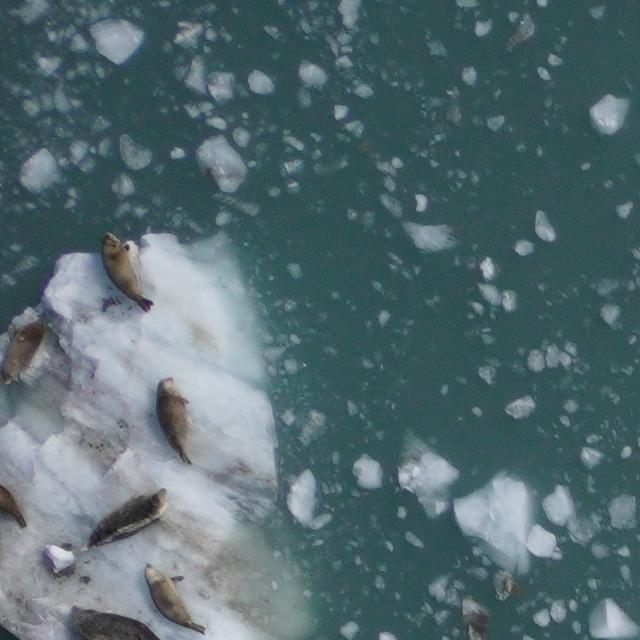seal: (75, 485, 172, 556), (98, 228, 158, 318), (0, 302, 61, 390), (142, 561, 211, 638), (64, 599, 167, 640), (153, 374, 196, 468)
